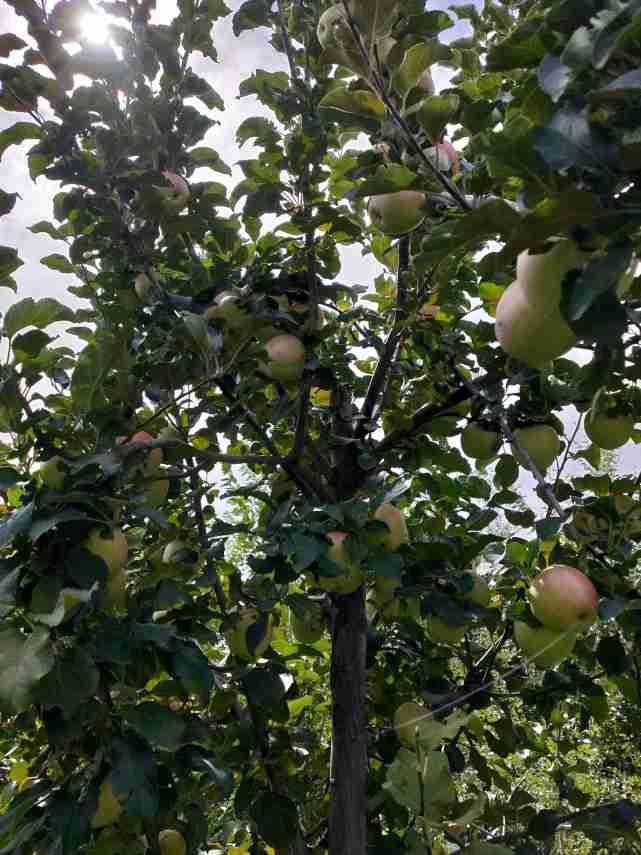apple: (498, 283, 577, 356), (518, 242, 588, 318), (525, 563, 598, 629), (515, 622, 576, 670), (368, 193, 426, 235), (395, 702, 445, 749), (263, 334, 305, 379)
